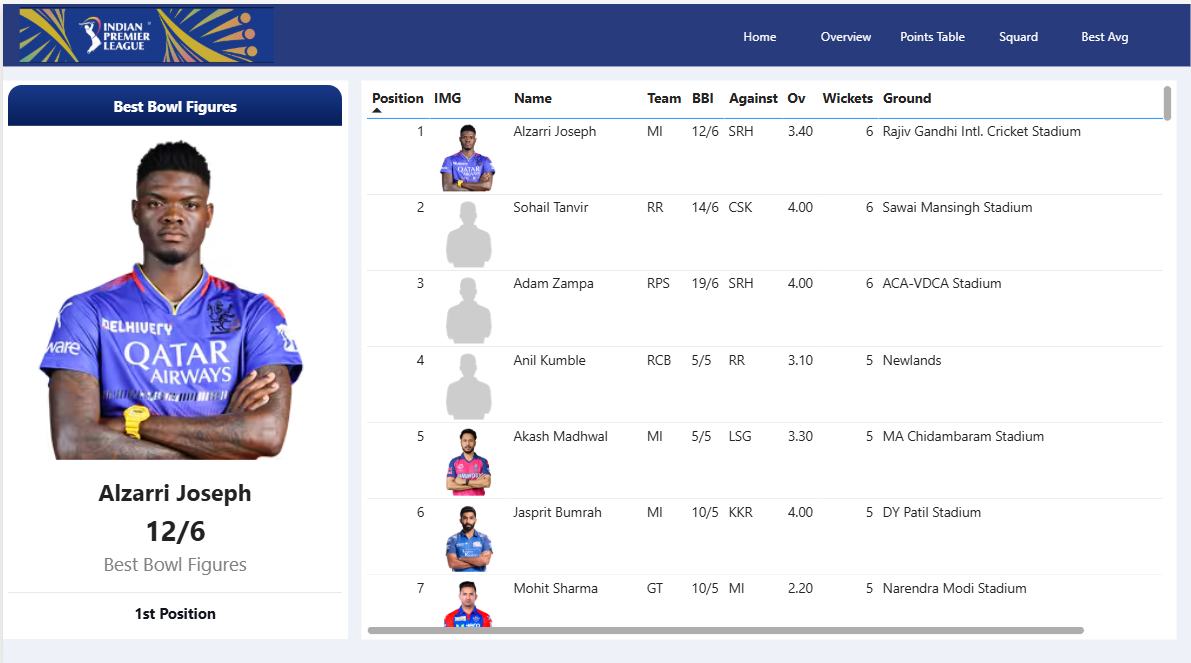

The page's visual inventory and layout, read from the dashboard file:
{"tool":"powerbi","page":{"name":"Best Bowl Figures","canvas":[1280,720],"ordinal":8},"visuals":[{"type":"htmlContent443BE3AD55E043BF878BED274D3A6855","fields":{"content":["Records.Top_Players"]},"box":[0,82,372,602],"z":0},{"type":"shape","box":[0,0,1280,67.5],"z":1000},{"type":"image","box":[0,4,310,60],"z":2000},{"type":"pageNavigator","box":[775,10,458.3,50],"z":3000},{"type":"tableEx","fields":{"Values":["BestBowling_Figures.Position","BestBowling_Figures.IMG","BestBowling_Figures.Name","BestBowling_Figures.Team","BestBowling_Figures.BBI","BestBowling_Figures.Against","Sum(BestBowling_Figures.Ov)","Sum(BestBowling_Figures.Wickets)","BestBowling_Figures.Ground"]},"box":[386,82,878,602],"z":4000}]}

Visuals, with their boxes in screenshot pixels (x1, y1, x2, y2), scaled from the page's 1280x720 canvas onto the 1191x663 screenshot:
htmlContent443BE3AD55E043BF878BED274D3A6855 - Records.Top_Players: region(0, 76, 346, 630)
shape: region(0, 0, 1190, 62)
image: region(0, 4, 288, 59)
pageNavigator: region(721, 9, 1148, 55)
tableEx - BestBowling_Figures.Position x BestBowling_Figures.IMG: region(359, 76, 1176, 630)
